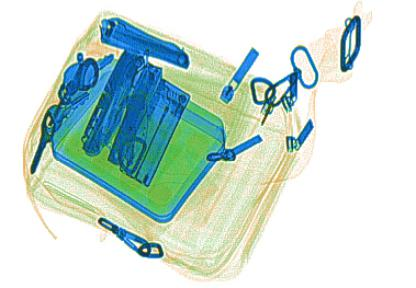knife: (80, 46, 144, 158)
